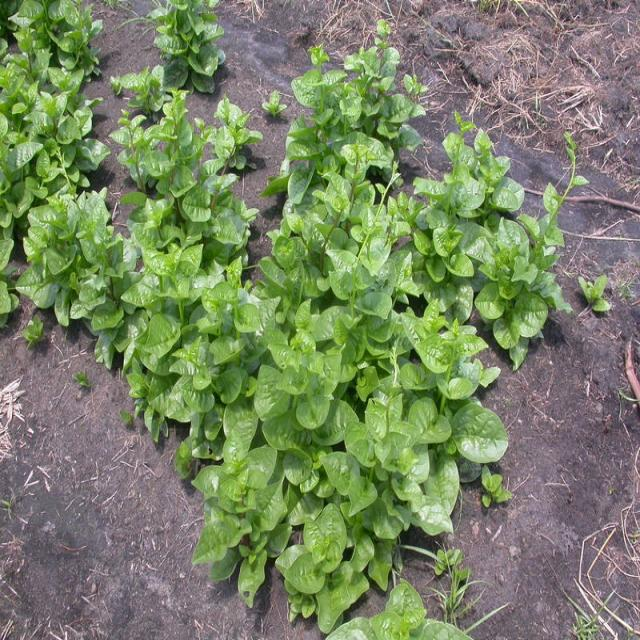Medicinal-Basale: (164, 310, 482, 625), (402, 101, 575, 392), (270, 16, 429, 315), (22, 11, 134, 342), (138, 90, 242, 434)
